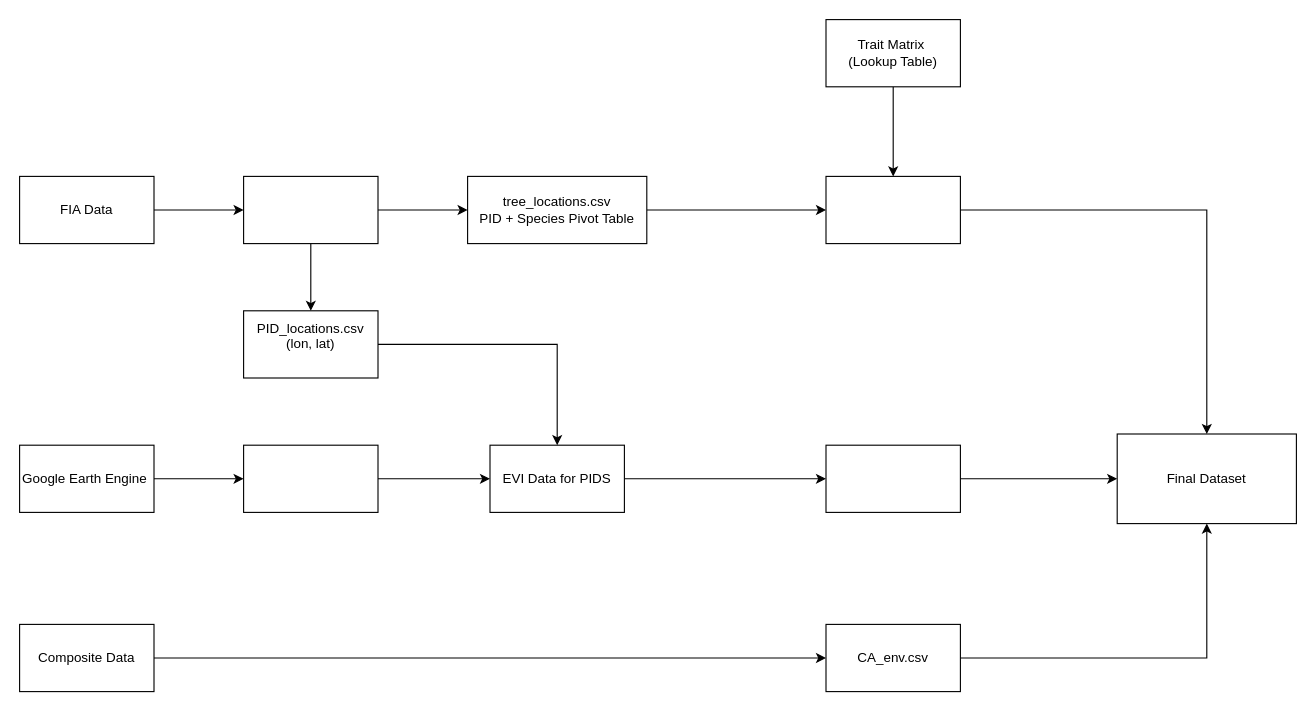
Some shapes in this 1316 by 711 pixel diagram are drawn without their labels. Here are the shapes that lost their labels. From the top down, the box of each, then its label:
(242, 175, 378, 244): FIA CA .arrow file
(825, 175, 960, 244): FD_tree.csv Functional Diversity Metrics for PIDs
(242, 444, 378, 512): MODIS Data
(825, 444, 960, 512): Stability Metrics
